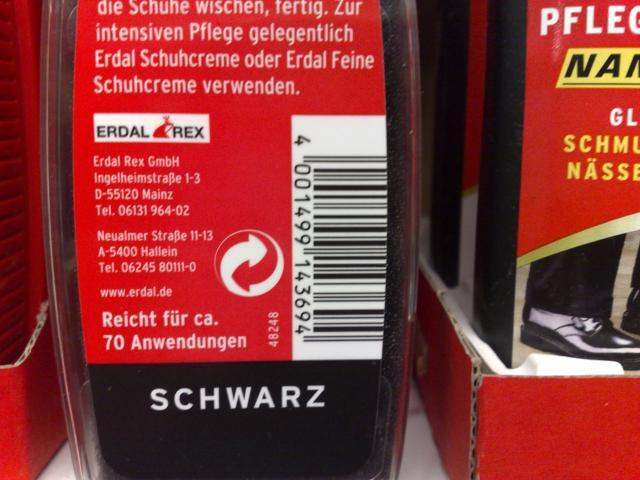Barcode: (290, 124, 388, 348)
